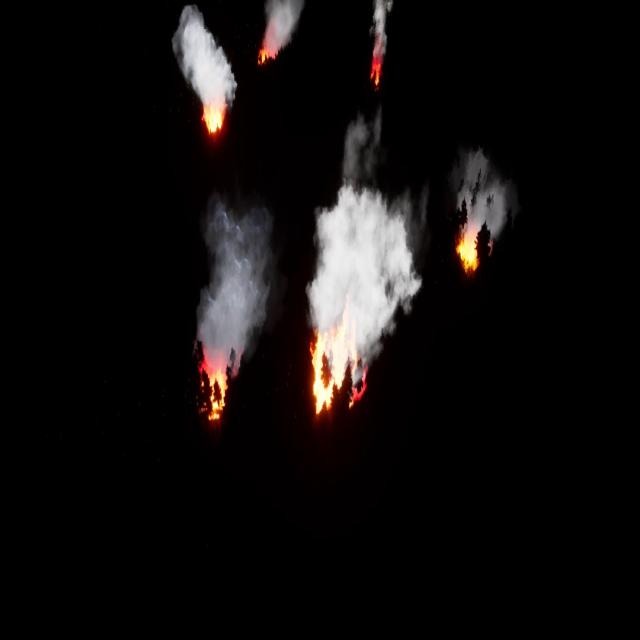fire: (309, 303, 367, 421), (197, 349, 239, 421), (455, 217, 486, 272), (197, 98, 224, 138), (256, 30, 278, 76), (368, 49, 384, 87)
smoke: (309, 121, 425, 358), (190, 200, 272, 361), (450, 142, 516, 248), (169, 0, 238, 99), (265, 1, 298, 47), (369, 0, 394, 56)
